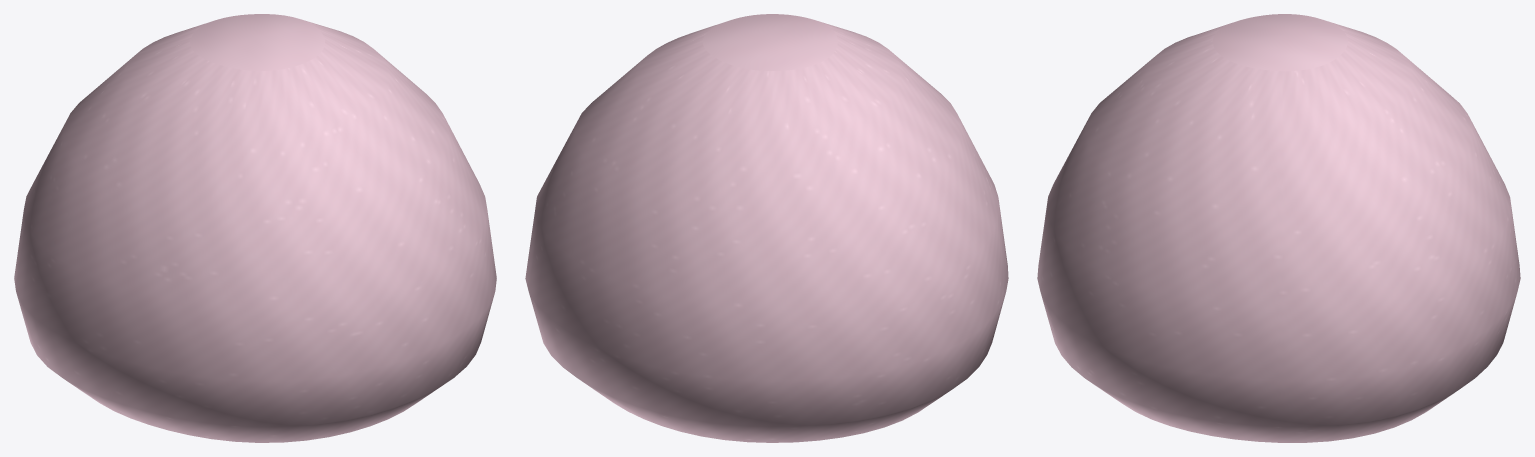
Rendered from mochi-held.glb.
3 views of the same model, side by side, from view 1: azimuth 30°, elevation 25°; view 2: azimuth 150°, elevation 25°; view 3: azimuth 270°, elevation 25° (orthographic).
Visible parts, largest first — view 1: MochiHeld; view 2: MochiHeld; view 3: MochiHeld.
Part boxes in pixels (left/top/right/bottom): MochiHeld: left=14, top=14, right=496, bottom=442; MochiHeld: left=525, top=14, right=1008, bottom=442; MochiHeld: left=1037, top=14, right=1520, bottom=442.
Size of the model in its own units: 0.076 by 0.059 by 0.076.
Materials: 1 (1 with a texture image).
